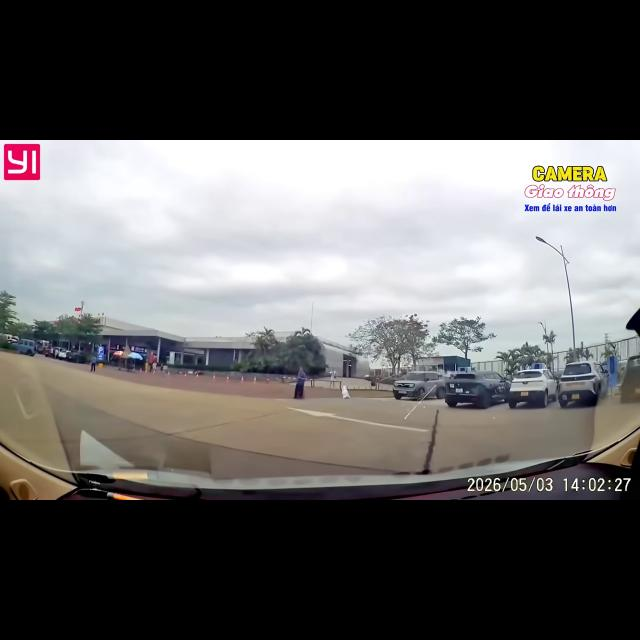car: (445, 371, 510, 408), (559, 361, 608, 407), (508, 366, 558, 408), (393, 371, 444, 399), (619, 355, 639, 403), (16, 339, 35, 356), (67, 352, 91, 363), (56, 350, 72, 360)
